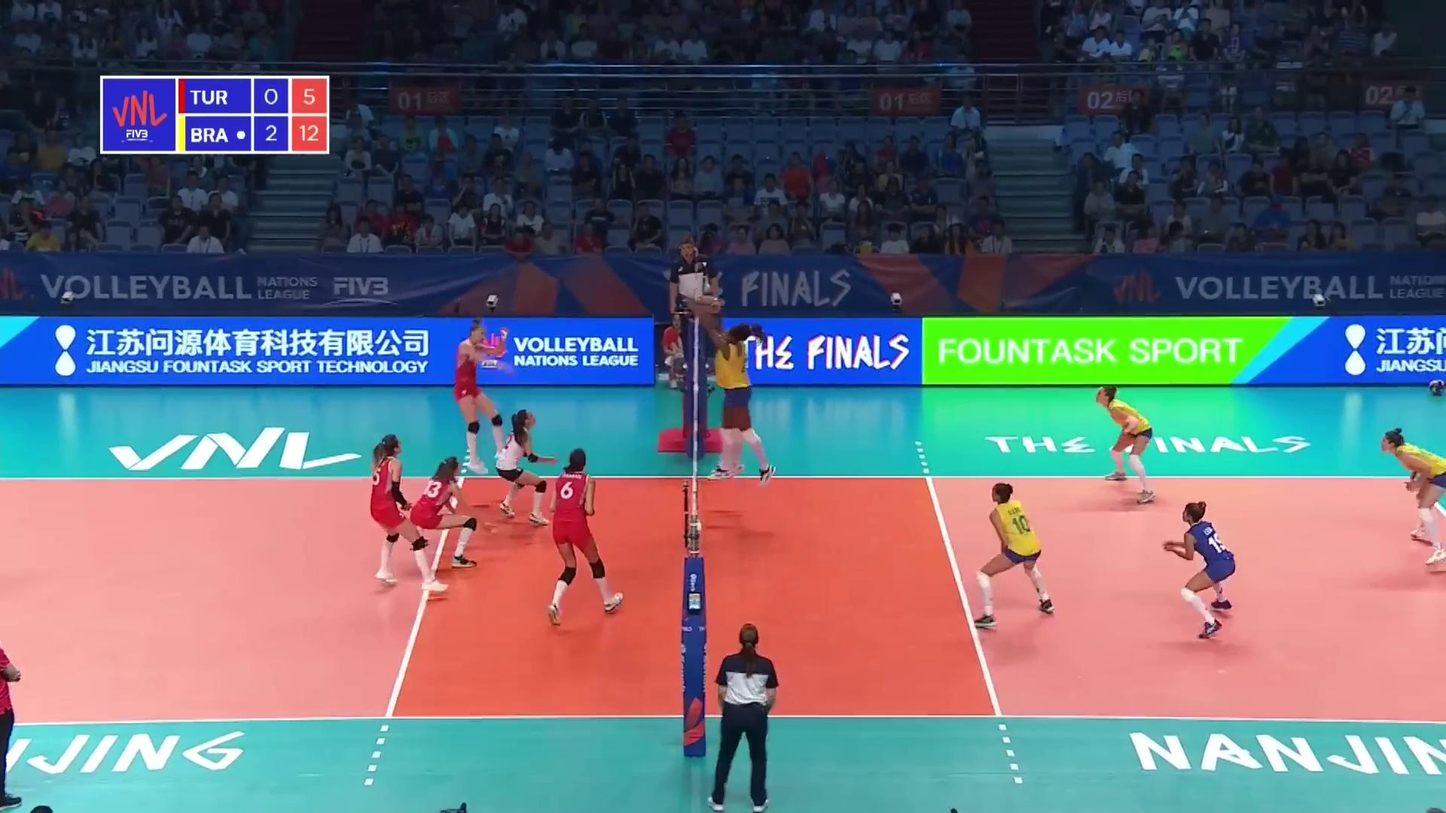player: (541, 450, 624, 620), (371, 437, 445, 593), (977, 483, 1054, 626), (409, 458, 497, 574), (715, 322, 777, 486), (1165, 502, 1238, 636), (456, 320, 518, 475), (1380, 427, 1446, 569), (1095, 386, 1158, 504), (497, 407, 552, 525)
refree: (711, 629, 781, 810), (667, 239, 720, 376)
